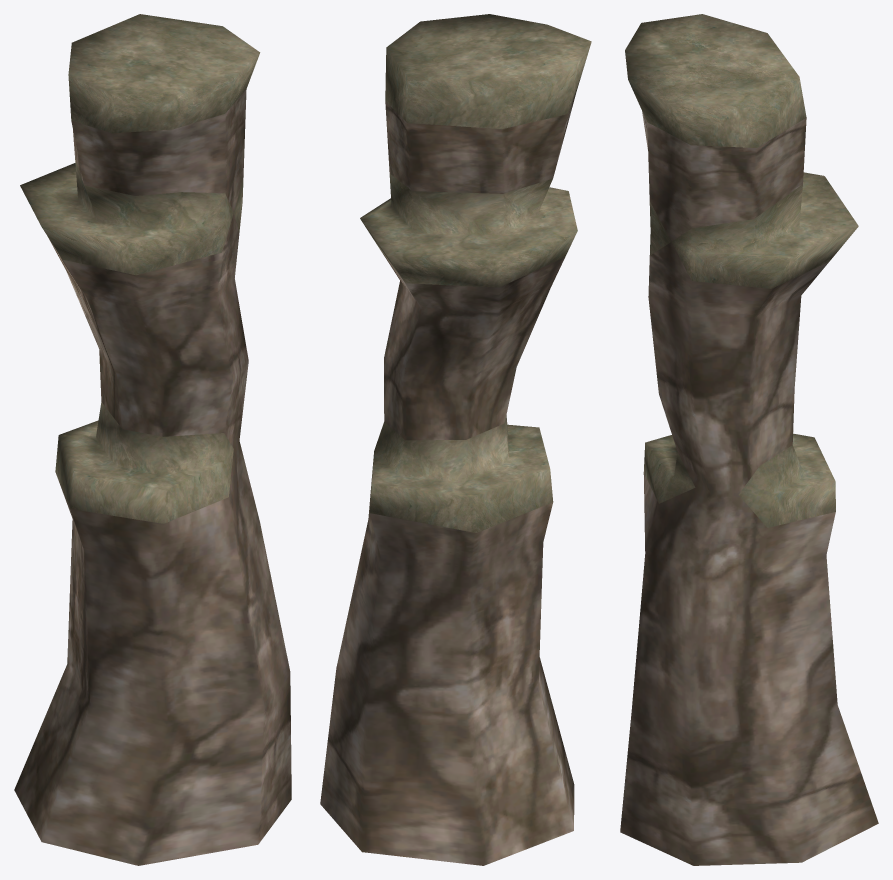
The model's file is EKH_GROTTO_PS_GR_ROCK_FORM4746__GX.fbx.
The picture shows the model from 3 angles, left to right: view 1: azimuth 30°, elevation 25°; view 2: azimuth 150°, elevation 25°; view 3: azimuth 270°, elevation 25°; orthographic projection. The views are drawn at different scales.
Visible parts, largest first — view 1: EKH_GROTTO_PS_GR_ROCK_FORM4746__GX; view 2: EKH_GROTTO_PS_GR_ROCK_FORM4746__GX; view 3: EKH_GROTTO_PS_GR_ROCK_FORM4746__GX.
Part boxes in pixels (box(x1,y1,x2,y2)): EKH_GROTTO_PS_GR_ROCK_FORM4746__GX: box(14, 14, 291, 865); EKH_GROTTO_PS_GR_ROCK_FORM4746__GX: box(320, 14, 591, 865); EKH_GROTTO_PS_GR_ROCK_FORM4746__GX: box(620, 14, 878, 865).
Size of the model in its own units: 28005 by 88831 by 27818.
2 materials, 2 textured.
